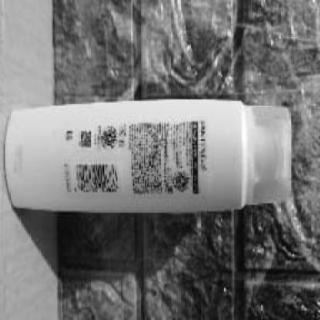objects: (6, 98, 293, 220)
